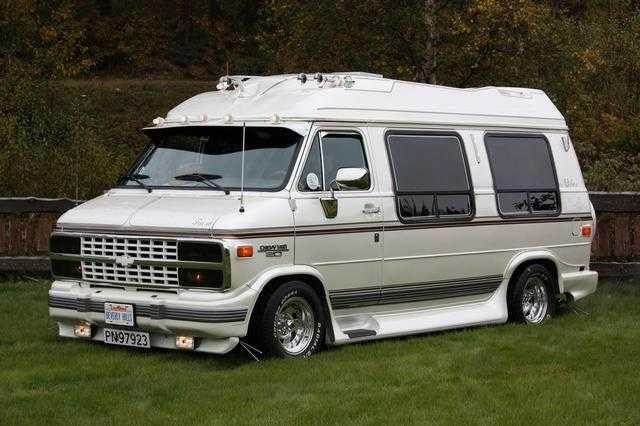car: (32, 77, 605, 359)
